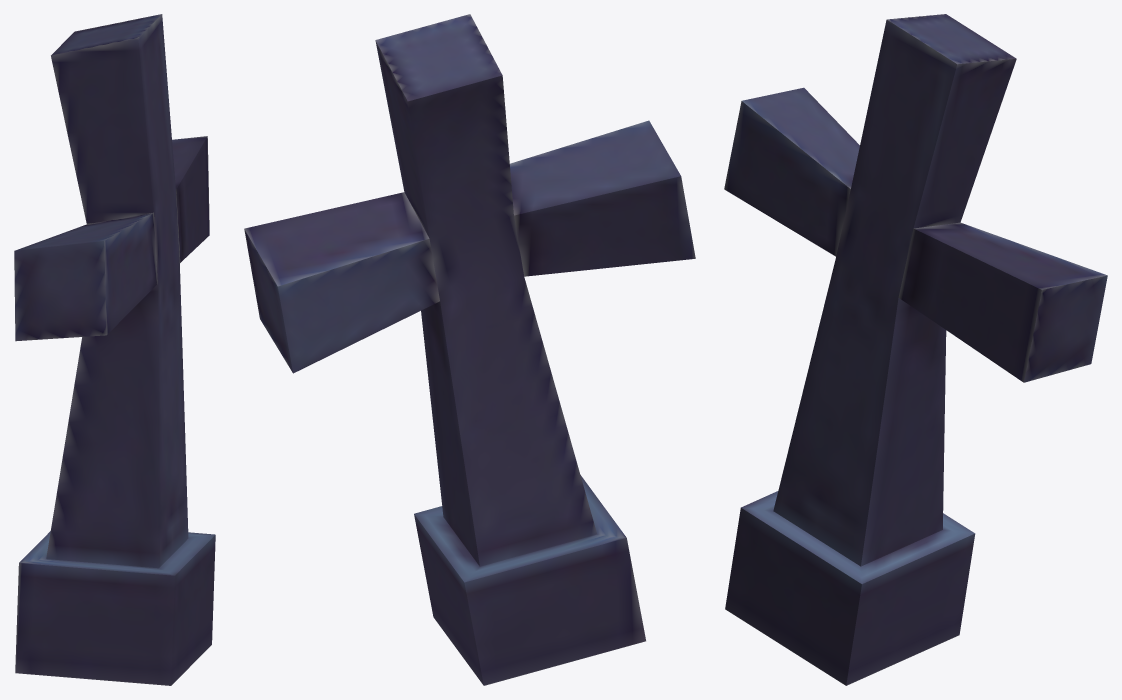
Rendered from Crypt_item_0.fbx.
The picture shows the model from 3 angles, left to right: view 1: azimuth 30°, elevation 25°; view 2: azimuth 150°, elevation 25°; view 3: azimuth 270°, elevation 25°; orthographic projection. The views are drawn at different scales.
Visible parts, largest first — view 1: Crypt_item_0; view 2: Crypt_item_0; view 3: Crypt_item_0.
Part boxes in pixels (<box>): Crypt_item_0: <box>14,14,215,685</box>; Crypt_item_0: <box>244,14,695,685</box>; Crypt_item_0: <box>724,14,1107,685</box>.
Size of the model in its own units: 1.08 by 2 by 1.09.
Materials: 1 (1 with a texture image).
